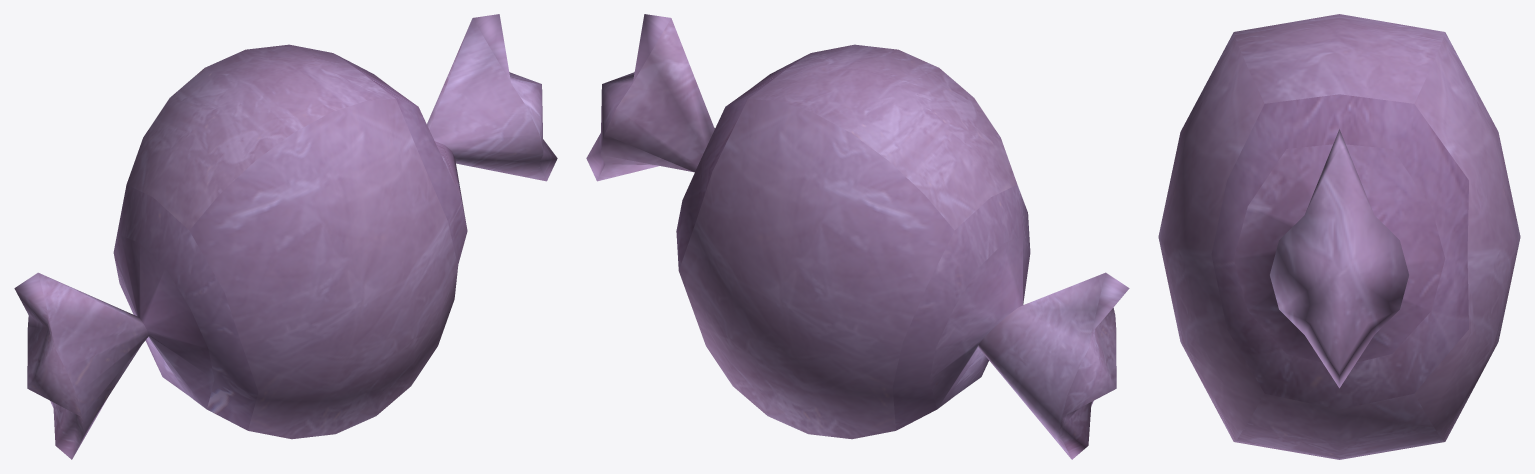
The model's file is candy.fbx.
3 renders of one model, left to right at view 1: azimuth 30°, elevation 25°; view 2: azimuth 150°, elevation 25°; view 3: azimuth 270°, elevation 25°, orthographic. The views are drawn at different scales.
Parts seen in each view (by area): view 1: Candy; view 2: Candy; view 3: Candy.
Part boxes in pixels (<box>): Candy: <box>14,14,557,459</box>; Candy: <box>586,14,1129,459</box>; Candy: <box>1158,14,1520,459</box>.
Size of the model in its own units: 3.53 by 2.18 by 1.71.
